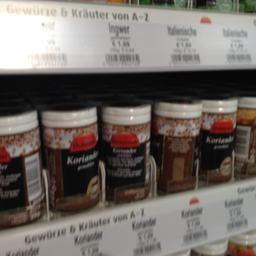spices: (38, 102, 100, 209), (0, 108, 45, 226), (100, 98, 150, 202), (152, 95, 201, 193), (194, 92, 238, 180)
